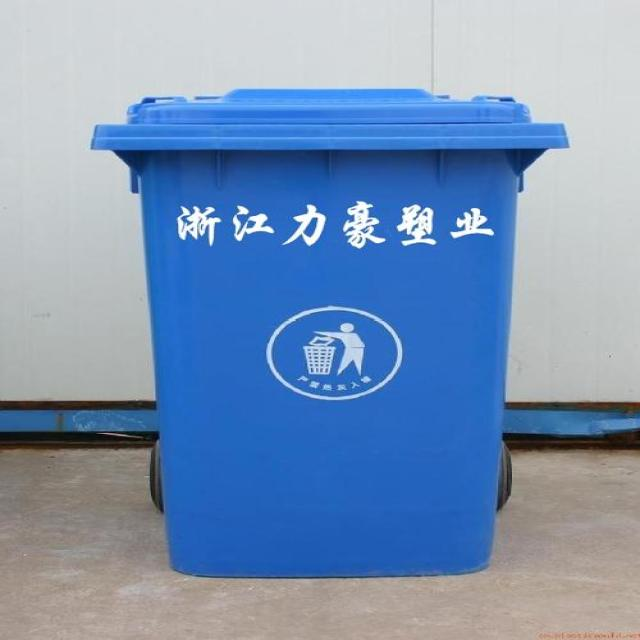garbage_bin: (88, 87, 570, 579)
